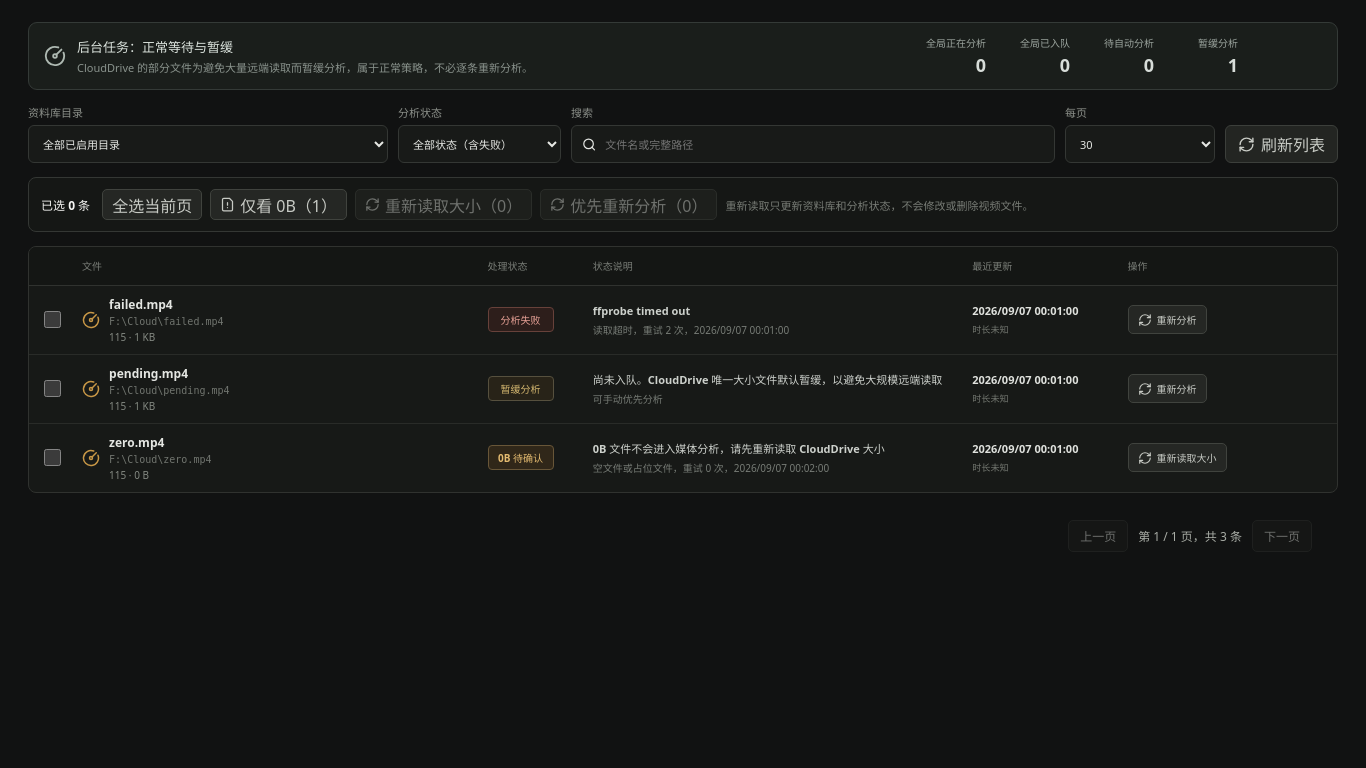
Test: MetadataIssuesPage › refreshes CloudDrive size for a zero-byte row and exposes the 0B filter
Expected: the text "zero.mp4" is shown, [109,434,164,450]
Step 1. Click the button "仅看 0B（1）" → (279, 204), box [210,189,347,220]
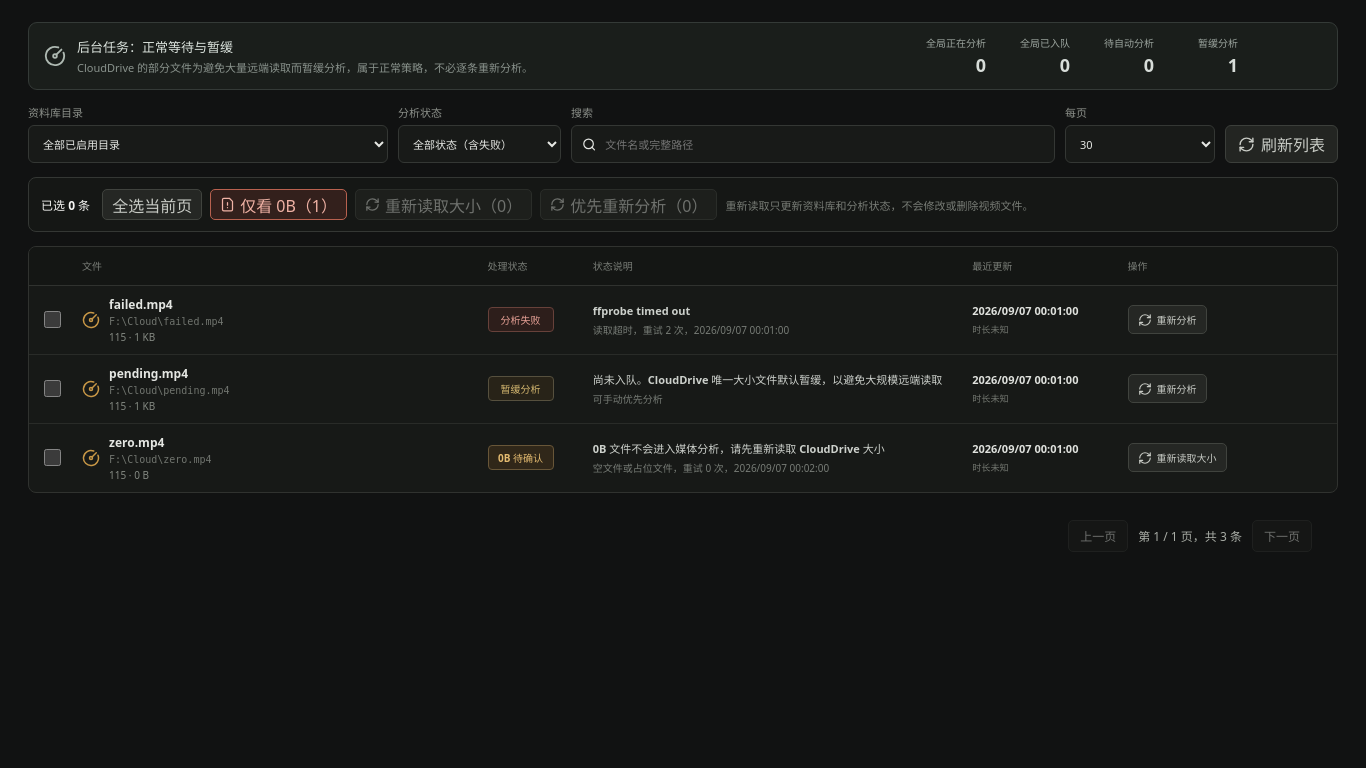
Step 2. Click the button "重新读取大小" → (1177, 458), box [1128,443,1226,472]
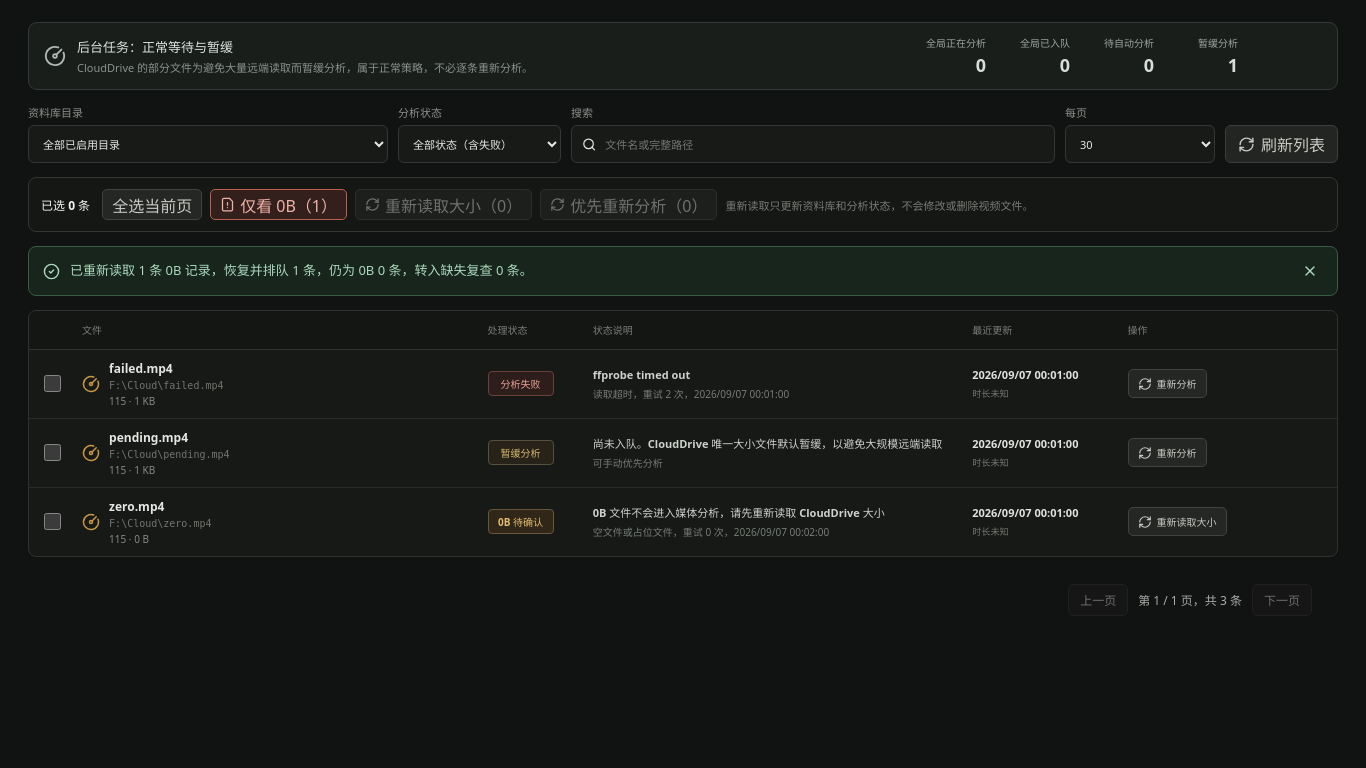
Result: the text "已重新读取 1 条 0B 记录，恢复并排队 1 条，仍为 0B 0 条，转入缺失复查 0 条。" is shown at [70,261,533,279]
